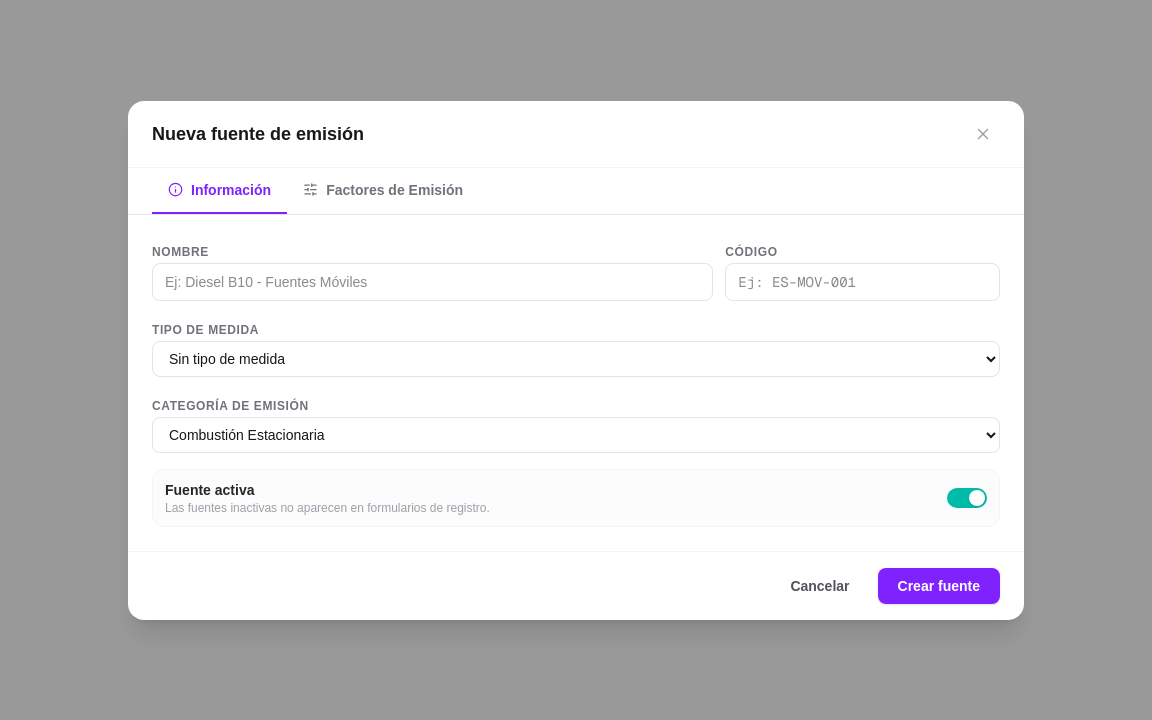
Test: EmissionSourceFormModal › E-25 — Factor sin gas seleccionado › muestra error "Selecciona un gas" al hacer submit
Step 1. Type "Fuente con factor" into the field with placeholder "Ej: Diesel B10 - Fuentes Móviles" → (433, 282), box [152,262,713,300]
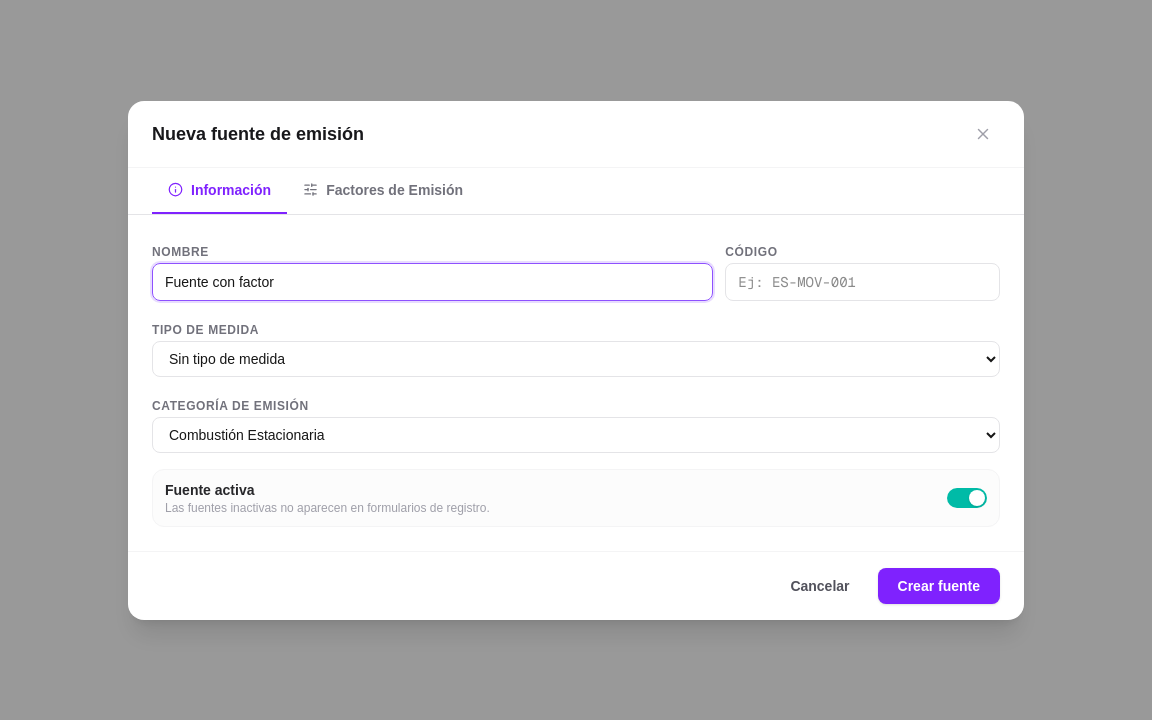
Step 2. Click the button "Factores de Emisión" → (383, 190), box [287,168,479,214]
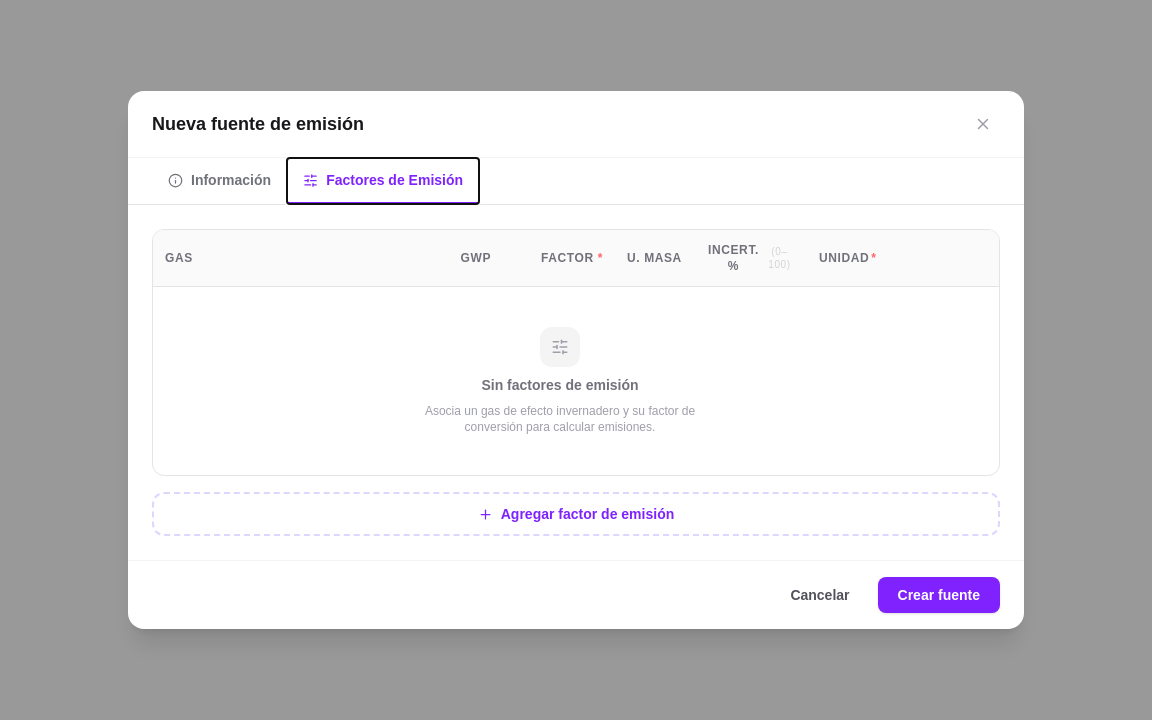
Step 3. Click the button "Agregar factor de emisión" → (576, 514), box [152,492,1000,536]
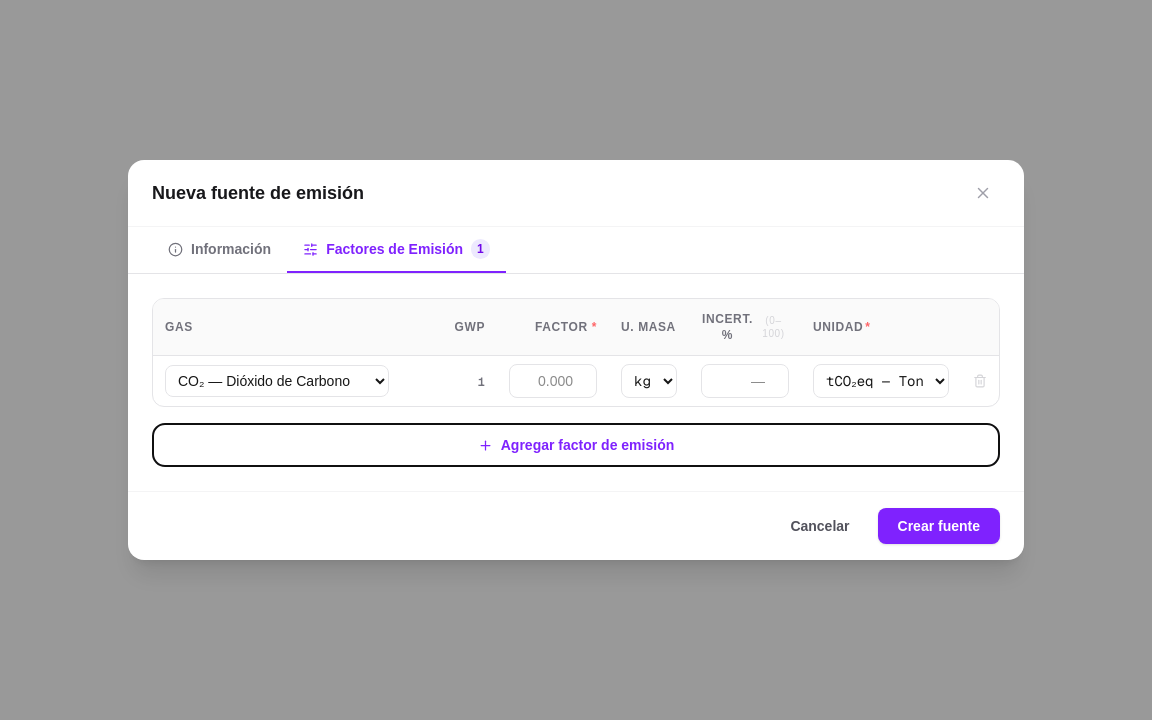
Step 4. Select "Selecciona gas" in the 1st dropdown → (277, 381), box [165,365,389,397]
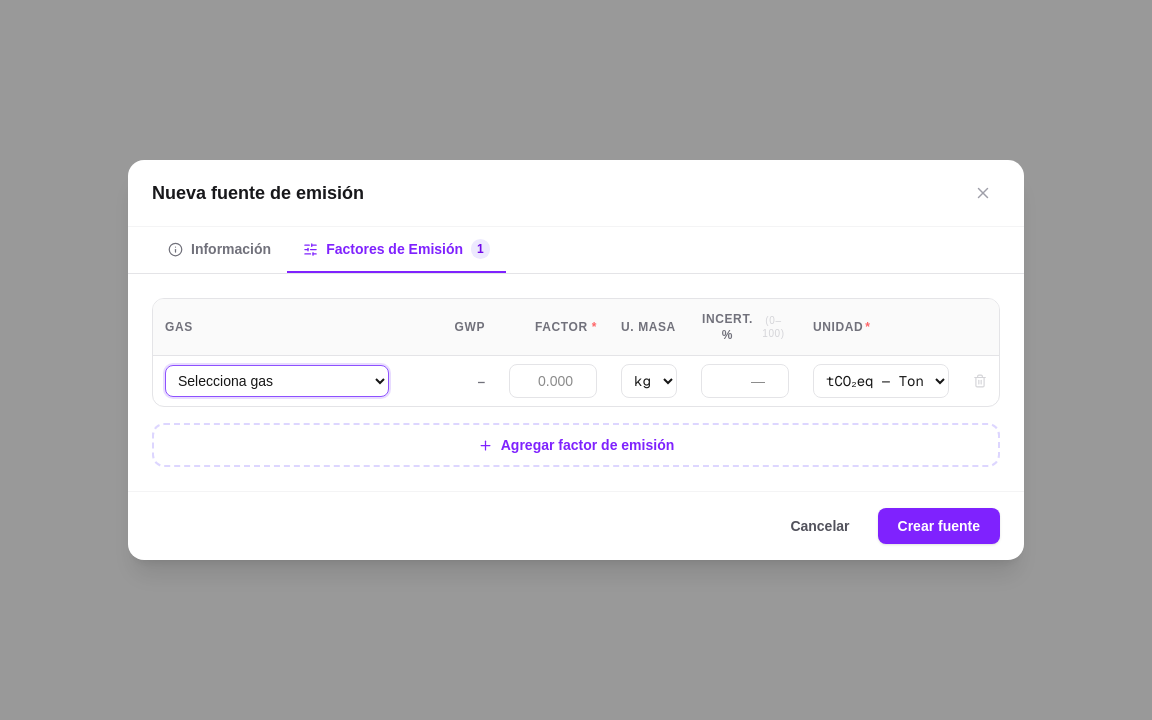
Step 5. Submit the form, box [128,274,1024,560]
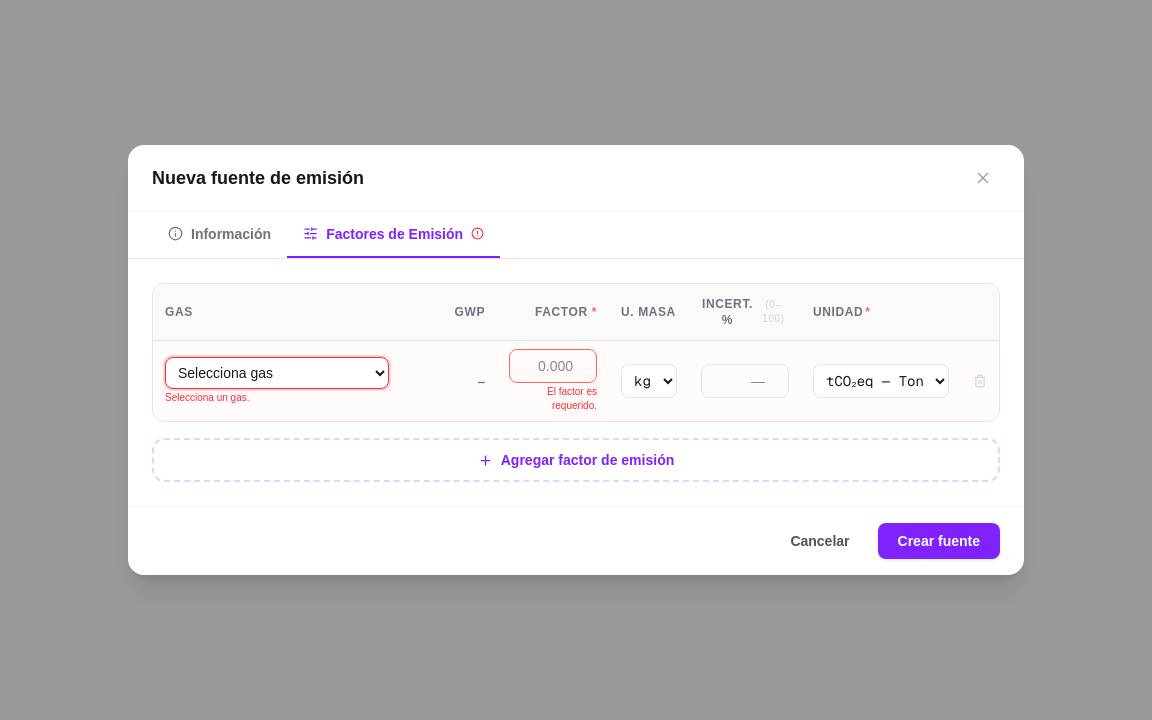
Check: the text "Selecciona un gas." is shown, box [165,392,250,403]
